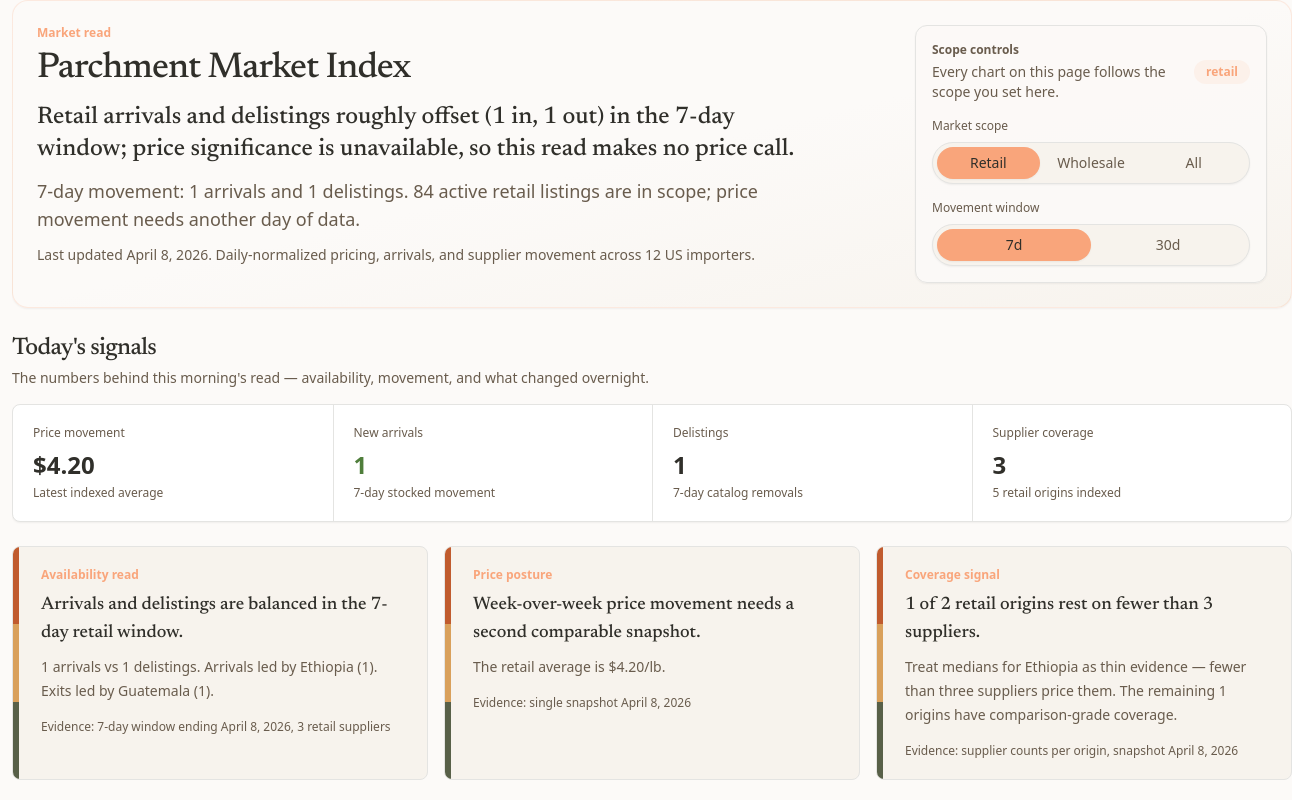
Test: analytics command center hierarchy › scopes coverage supplier-evidence reads with the selected market
This screenshot has width=1292, height=800.
Expected: the heading "1 of 2 retail origins rest on fewer than 3 suppliers." is shown, [905,596,1213,642]
Expected: the text "Treat medians for Ethiopia" is shown, [905,657,1246,724]
Click the button "Wholesale" at (1091,163), box [1040,147,1142,179]
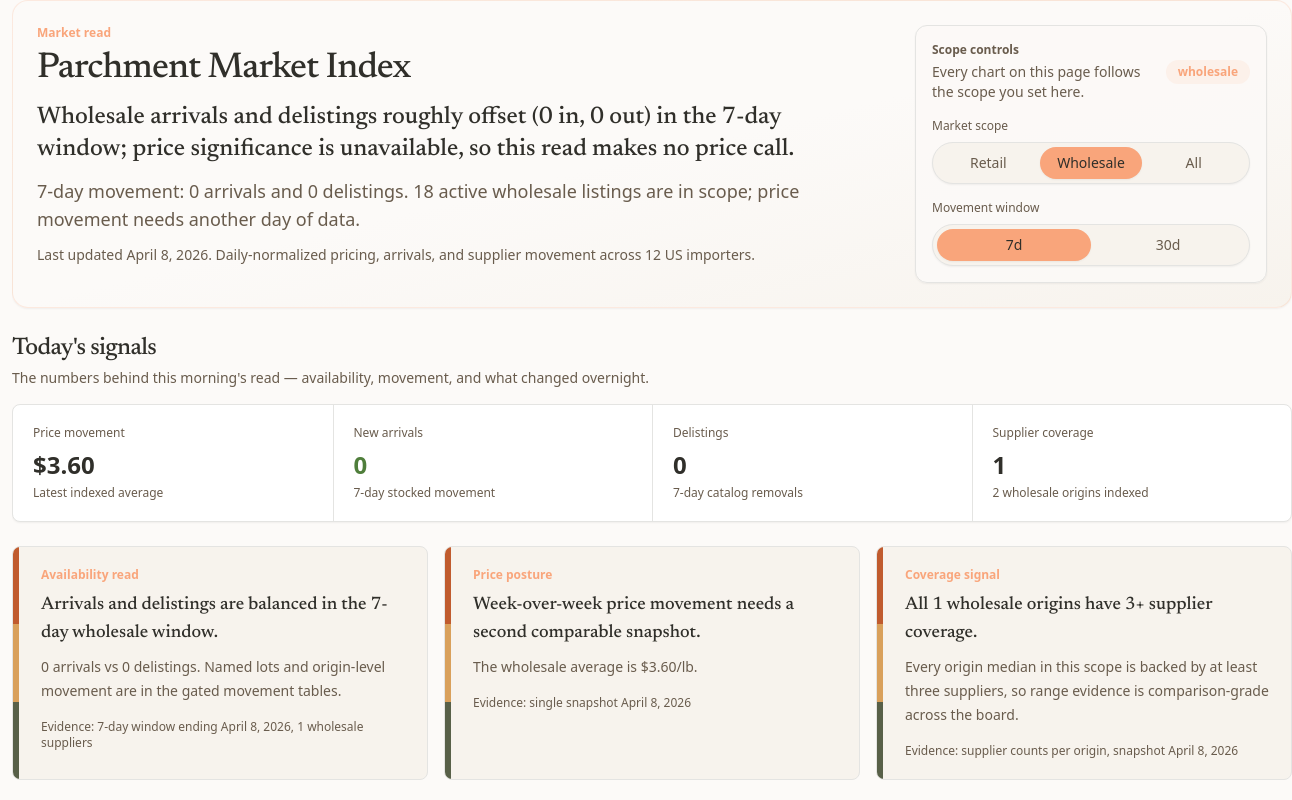
Result: the heading "All 1 wholesale origins have 3+ supplier coverage." is shown at [905,596,1212,642]
Result: the text "Treat medians for Ethiopia" is gone
